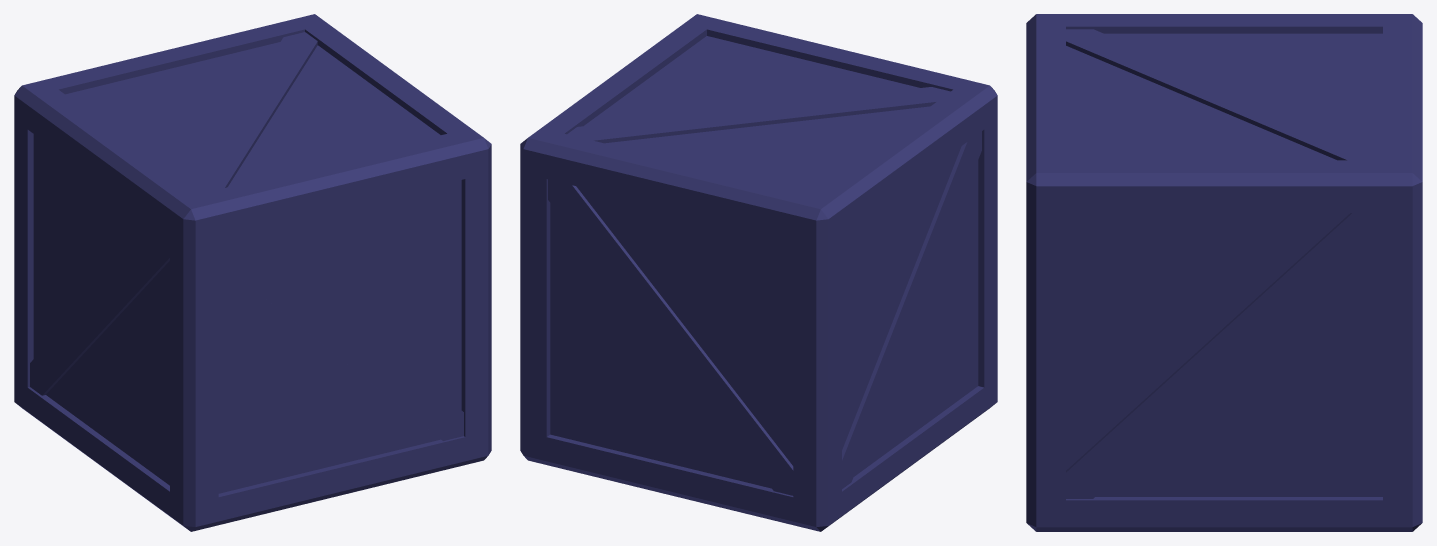
The model's file is damagedInsulatorBlock.fbx.
3 renders of one model, left to right at view 1: azimuth 30°, elevation 25°; view 2: azimuth 150°, elevation 25°; view 3: azimuth 270°, elevation 25°, orthographic. The views are drawn at different scales.
Parts seen in each view (by area): view 1: damagedInsulatorBlock; view 2: damagedInsulatorBlock; view 3: damagedInsulatorBlock.
Boxes of the visible parts, <box> form: damagedInsulatorBlock: <box>14,14,491,531</box>; damagedInsulatorBlock: <box>520,14,997,531</box>; damagedInsulatorBlock: <box>1026,14,1422,531</box>.
Bounding box in the file's own units: 2.5 × 2.5 × 2.5.
